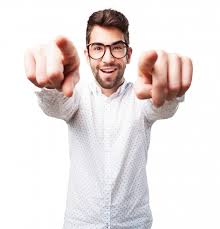hand: (8, 30, 88, 101), (134, 43, 198, 115)
